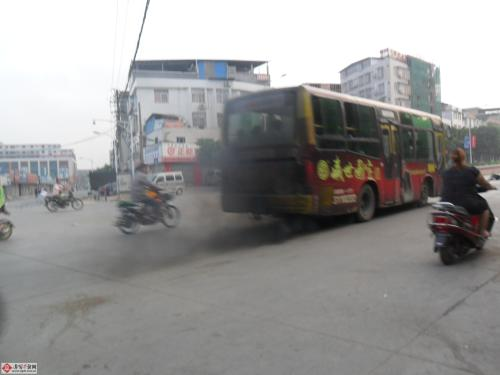smoke: (198, 219, 284, 253)
